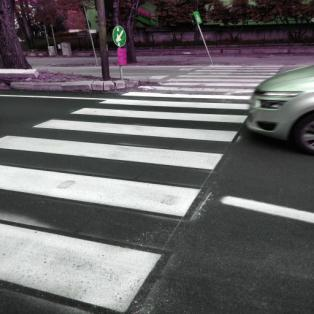Paso de Cebra: (0, 118, 240, 174)
